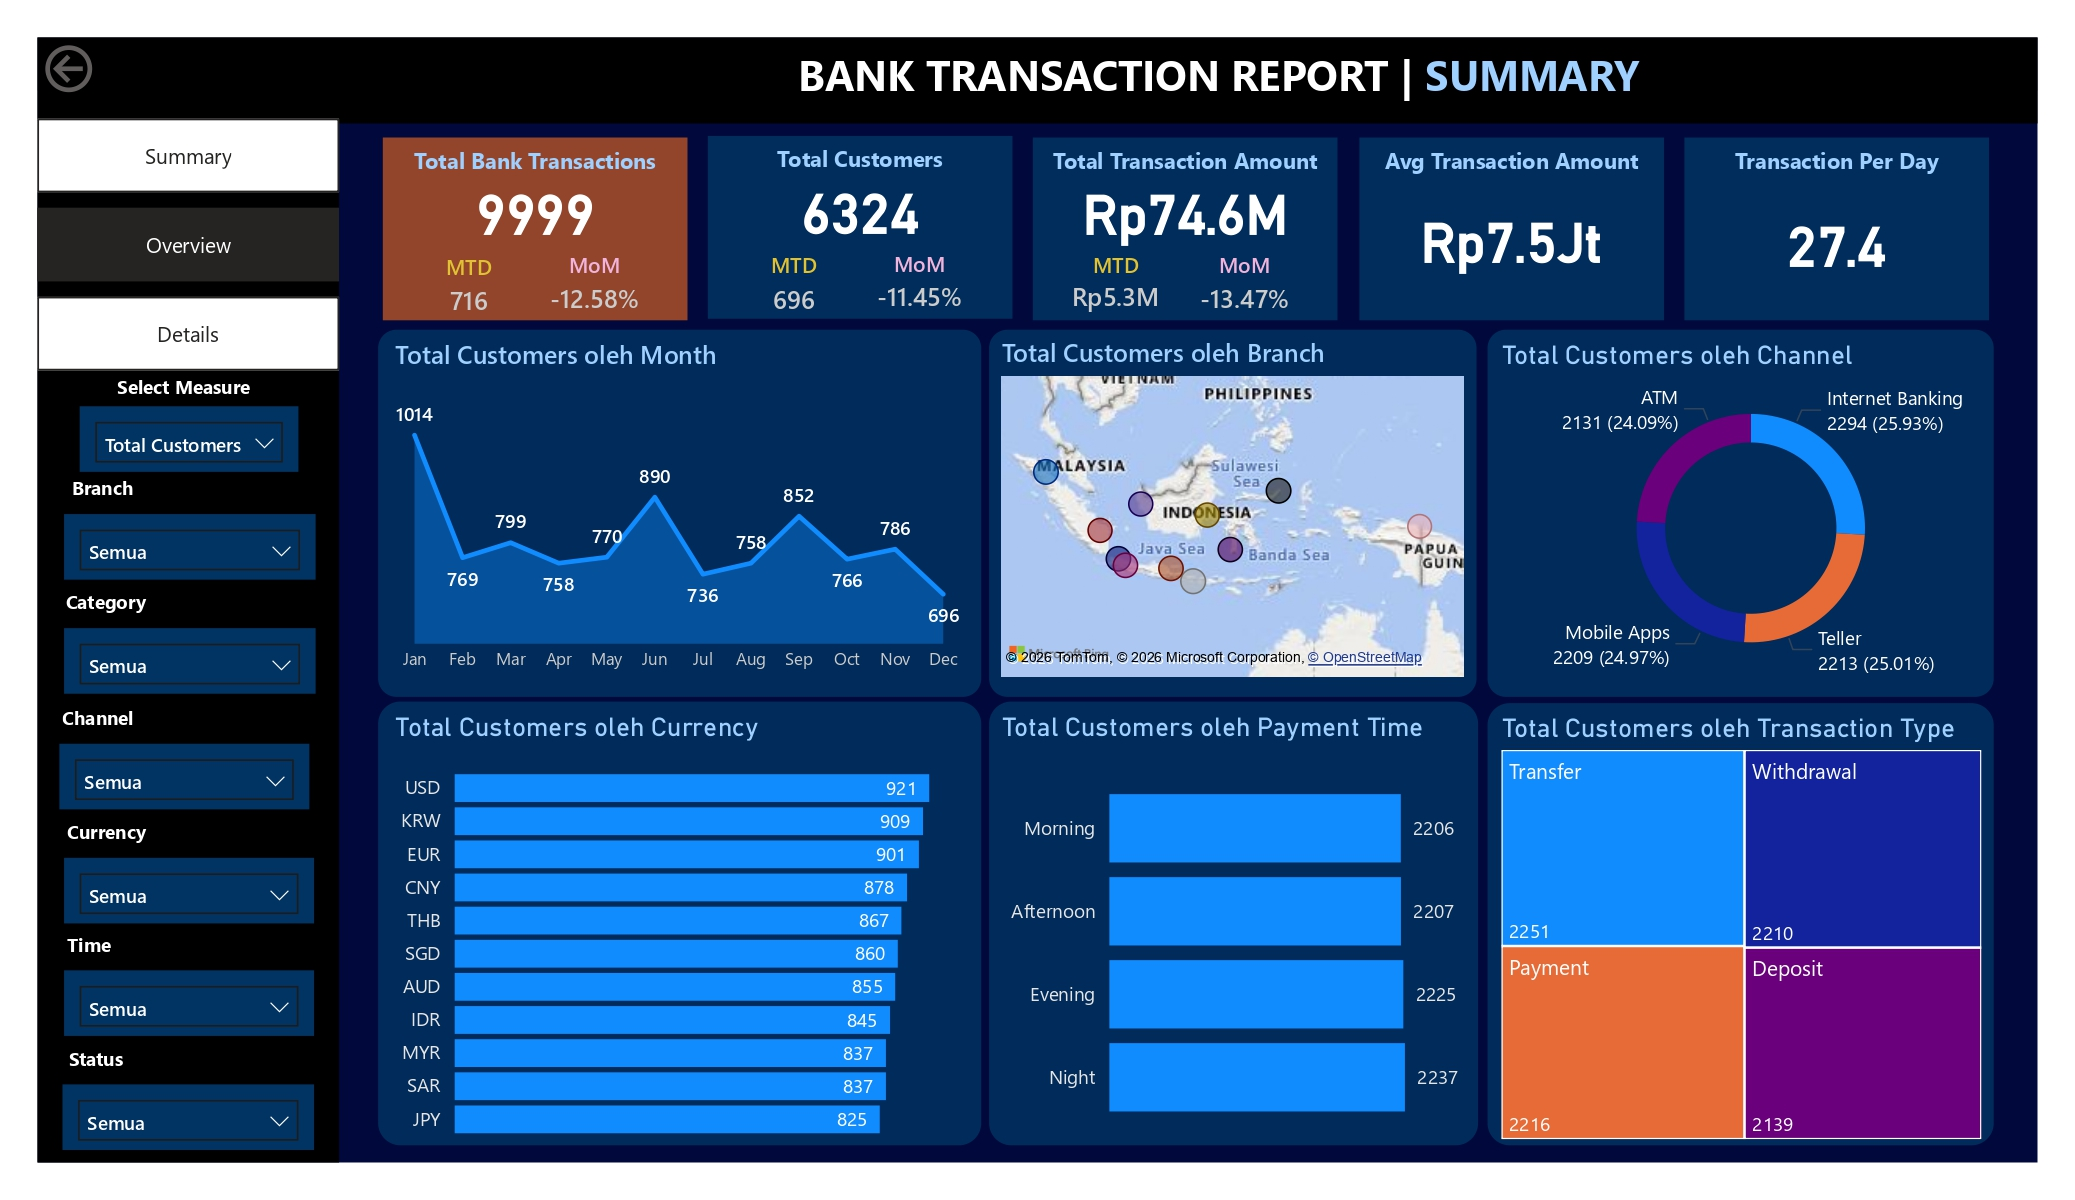

The page's visual inventory and layout, read from the dashboard file:
{"tool":"powerbi","page":{"name":"Summary","canvas":[1280,720],"ordinal":0},"visuals":[{"type":"shape","box":[0,54.8,192,665.5],"z":0},{"type":"shape","box":[428.9,63.3,195.1,117.3],"z":0,"group":"g5"},{"type":"shape","box":[220.6,63.7,195.1,117.3],"z":0,"group":"g4"},{"type":"shape","box":[637.3,63.7,195.1,117.3],"z":0,"group":"g6"},{"type":"shape","box":[845.7,63.7,195.1,117.3],"z":0,"group":"g7"},{"type":"shape","box":[1054.1,63.7,195.1,117.3],"z":0,"group":"g8"},{"type":"textbox","box":[223.1,202.3,328.9,39.5],"z":0,"group":"g9"},{"type":"textbox","box":[570.5,202.3,328.9,39.5],"z":0,"group":"g10"},{"type":"textbox","box":[917.9,202.3,328.9,39.5],"z":0,"group":"g11"},{"type":"card","fields":{"Values":["bank.UniqueCustomers"]},"box":[428.9,82.4,195.1,54.8],"z":1000,"group":"g5"},{"type":"card","fields":{"Values":["bank.TotalTransaction"]},"box":[220.6,82.8,195.1,54.8],"z":1000,"group":"g4"},{"type":"card","fields":{"Values":["bank.TotalAmount"]},"box":[637.3,82.8,195.1,54.8],"z":1000,"group":"g6"},{"type":"card","fields":{"Values":["bank.AverageTransactionValue"]},"box":[845.7,100.7,195.1,54.8],"z":1000,"group":"g7"},{"type":"card","fields":{"Values":["bank.TransactionPerDay"]},"box":[1054.1,103.2,195.1,54.8],"z":1000,"group":"g8"},{"type":"group","id":"g1","title":"Group 2","box":[219.3,257.1,167,168.3],"z":1000,"group":"g9"},{"type":"group","id":"g2","title":"Group 2","box":[566.7,257.1,167,168.3],"z":1000,"group":"g10"},{"type":"group","id":"g3","title":"Group 2","box":[914.1,257.1,167,168.3],"z":1000,"group":"g11"},{"type":"shape","box":[216.7,470.4,1033.9,239.7],"z":1000},{"type":"textbox","box":[428.9,63.3,195.1,39.5],"z":2000,"group":"g5"},{"type":"textbox","box":[220.6,63.7,195.1,39.5],"z":2000,"group":"g4"},{"type":"textbox","box":[637.3,63.7,195.1,39.5],"z":2000,"group":"g6"},{"type":"textbox","box":[845.7,63.7,195.1,39.5],"z":2000,"group":"g7"},{"type":"textbox","box":[1054.1,63.7,195.1,39.5],"z":2000,"group":"g8"},{"type":"shape","box":[564.1,195.1,340,260.1],"z":2000},{"type":"cardVisual","fields":{"Data":["bank.TotalSuccessTransaction","bank.TotalSuccessCustomers","bank.TotalSuccessAmount"]},"box":[369.7,230.3,183.6,218],"z":2000,"group":"g9"},{"type":"cardVisual","fields":{"Data":["bank.TotalPendingTransaction","bank.TotalPendingCustomers","bank.TotalPendingAmount"]},"box":[717.1,230.3,183.6,218],"z":2000,"group":"g10"},{"type":"cardVisual","fields":{"Data":["bank.TotalFailedTransaction","bank.TotalFailedCustomers","bank.TotalFailedAmount"]},"box":[1064.5,230.3,183.6,218],"z":2000,"group":"g11"},{"type":"card","title":"MTD","fields":{"Values":["bank.MTDCustomer"]},"box":[450.6,137.2,66.3,48.4],"z":3000,"group":"g5"},{"type":"card","title":"MTD","fields":{"Values":["bank.MTDAmount"]},"box":[654.2,137.2,72.3,42.2],"z":3000,"group":"g6"},{"type":"card","title":"MTD","fields":{"Values":["bank.MTDBankTransactions"]},"box":[242.3,137.6,66.3,48.4],"z":3000,"group":"g4"},{"type":"shape","box":[218,195.1,340,260.1],"z":3000},{"type":"textbox","box":[16.6,274.1,56.1,39.5],"z":3000,"group":"g12"},{"type":"shape","box":[0,0,1280,55],"z":4000},{"type":"card","title":"MoM","fields":{"Values":["bank.MoMCustomer"]},"box":[526.5,136.8,75.9,47],"z":4000,"group":"g5"},{"type":"card","title":"MoM","fields":{"Values":["bank.MoMBankTransactions"]},"box":[318.2,137.2,75.9,47],"z":4000,"group":"g4"},{"type":"card","title":"MoM","fields":{"Values":["bank.MoMAmount"]},"box":[734.9,137.2,75.9,47],"z":4000,"group":"g6"},{"type":"textbox","box":[637.1,475.5,195.1,39.5],"z":5000},{"type":"textbox","box":[481.9,0,557.1,56.1],"z":6000},{"type":"group","id":"g4","title":"Group 1","box":[220.6,63.7,195.1,122.4],"z":7000},{"type":"group","id":"g5","title":"Group 1","box":[428.9,63.3,195.1,122.4],"z":8000},{"type":"group","id":"g6","title":"Group 1","box":[637.3,63.7,195.1,120.5],"z":9000},{"type":"group","id":"g7","title":"Group 1","box":[845.7,63.7,195.1,117.3],"z":10000},{"type":"group","id":"g8","title":"Group 1","box":[1054.1,63.7,195.1,117.3],"z":11000},{"type":"actionButton","box":[0,0,100,40],"z":12000},{"type":"shape","box":[910.3,195.1,340.4,260.1],"z":13000},{"type":"donutChart","fields":{"Category":["bank.Transaction Status"],"Y":["bank.TotalTransaction"]},"box":[219.3,257.1,167,168.3],"z":13000,"group":"g1"},{"type":"donutChart","fields":{"Category":["bank.Transaction Status"],"Y":["bank.TotalTransaction"]},"box":[566.7,257.1,167,168.3],"z":13000,"group":"g2"},{"type":"donutChart","fields":{"Category":["bank.Transaction Status"],"Y":["bank.TotalTransaction"]},"box":[914.1,257.1,167,168.3],"z":13000,"group":"g3"},{"type":"card","fields":{"Values":["bank.SucessTransPerc"]},"box":[242.2,309.4,121.1,63.7],"z":13500,"group":"g1"},{"type":"card","fields":{"Values":["bank.PendingTransPerc"]},"box":[589.6,309.4,121.1,63.7],"z":13500,"group":"g2"},{"type":"card","fields":{"Values":["bank.FailedTransPerc"]},"box":[937,309.4,121.1,63.7],"z":13500,"group":"g3"},{"type":"group","id":"g9","title":"Group 3","box":[219.3,202.3,334,246.1],"z":14000},{"type":"group","id":"g10","title":"Group 3","box":[566.7,202.3,334,246.1],"z":15000},{"type":"group","id":"g11","title":"Group 3","box":[914.1,202.3,334,246.1],"z":16000},{"type":"tableEx","fields":{"Values":["bank.Status","bank.TotalTransaction","bank.UniqueCustomers","bank.MTDCustomer","bank.TotalAmount","bank.MTDAmount","bank.AverageTransactionValue","bank.TransactionPerDay"]},"box":[223.4,517.6,1022.5,198.9],"z":17000},{"type":"group","id":"g12","title":"Group 4","box":[16.6,274.1,160.6,72.7],"z":18000},{"type":"slicer","fields":{"Values":["bank.Branch"]},"box":[16.6,304.7,160.6,42.1],"z":19000,"group":"g12"},{"type":"group","id":"g13","title":"Group 5","box":[12.7,346.8,164.5,73.9],"z":19000},{"type":"textbox","box":[12.7,346.8,72.7,39.5],"z":20000,"group":"g13"},{"type":"group","id":"g14","title":"Group 5","box":[11.5,420.7,163.2,72.9],"z":20000},{"type":"textbox","box":[11.5,420.7,70.1,39.5],"z":20000,"group":"g14"},{"type":"textbox","box":[14,493.5,70.1,39.5],"z":20000,"group":"g15"},{"type":"textbox","box":[14,566.1,70.1,39.5],"z":20000,"group":"g16"},{"type":"textbox","box":[14.9,638.7,70.1,39.5],"z":20000,"group":"g17"},{"type":"slicer","fields":{"Values":["bank.MerchantCategory"]},"box":[16.9,377.7,160.6,42.1],"z":21000,"group":"g13"},{"type":"slicer","fields":{"Values":["bank.Channel"]},"box":[14.1,451.6,160.6,42.1],"z":21000,"group":"g14"},{"type":"group","id":"g15","title":"Group 5","box":[14,493.5,163.2,72.7],"z":21000},{"type":"slicer","fields":{"Values":["bank.Currency"]},"box":[16.6,524.4,160.6,42.1],"z":21000,"group":"g15"},{"type":"slicer","fields":{"Values":["bank.TimeOfDay"]},"box":[16.6,597,160.6,42.1],"z":21000,"group":"g16"},{"type":"slicer","fields":{"Values":["bank.TransactionType"]},"box":[16.1,669.7,160.6,42.1],"z":21000,"group":"g17"},{"type":"group","id":"g16","title":"Group 5","box":[14,566.1,163.2,72.7],"z":22000},{"type":"group","id":"g17","title":"Group 5","box":[14.9,638.7,161.9,72.7],"z":23000},{"type":"pageNavigator","box":[0,52.3,192.5,161.9],"z":24000}]}

Visuals, with their boxes on the page's 1280x720 design canvas (x1, y1, x2, y2). These are canvas units, not pixel positions in the 2075x1200 screenshot, which may show the page scaled, cropped or inside an application window:
shape: crop(0, 55, 192, 720)
shape: crop(429, 63, 624, 181)
shape: crop(221, 64, 416, 181)
shape: crop(637, 64, 832, 181)
shape: crop(846, 64, 1041, 181)
shape: crop(1054, 64, 1249, 181)
textbox: crop(223, 202, 552, 242)
textbox: crop(570, 202, 899, 242)
textbox: crop(918, 202, 1247, 242)
card - bank.UniqueCustomers: crop(429, 82, 624, 137)
card - bank.TotalTransaction: crop(221, 83, 416, 138)
card - bank.TotalAmount: crop(637, 83, 832, 138)
card - bank.AverageTransactionValue: crop(846, 101, 1041, 156)
card - bank.TransactionPerDay: crop(1054, 103, 1249, 158)
"Group 2" group: crop(219, 257, 386, 425)
"Group 2" group: crop(567, 257, 734, 425)
"Group 2" group: crop(914, 257, 1081, 425)
shape: crop(217, 470, 1251, 710)
textbox: crop(429, 63, 624, 103)
textbox: crop(221, 64, 416, 103)
textbox: crop(637, 64, 832, 103)
textbox: crop(846, 64, 1041, 103)
textbox: crop(1054, 64, 1249, 103)
shape: crop(564, 195, 904, 455)
cardVisual - bank.TotalSuccessTransaction x bank.TotalSuccessCustomers: crop(370, 230, 553, 448)
cardVisual - bank.TotalPendingTransaction x bank.TotalPendingCustomers: crop(717, 230, 901, 448)
cardVisual - bank.TotalFailedTransaction x bank.TotalFailedCustomers: crop(1064, 230, 1248, 448)
"MTD" card: crop(451, 137, 517, 186)
"MTD" card: crop(654, 137, 726, 179)
"MTD" card: crop(242, 138, 309, 186)
shape: crop(218, 195, 558, 455)
textbox: crop(17, 274, 73, 314)
shape: crop(0, 0, 1280, 55)
"MoM" card: crop(526, 137, 602, 184)
"MoM" card: crop(318, 137, 394, 184)
"MoM" card: crop(735, 137, 811, 184)
textbox: crop(637, 476, 832, 515)
textbox: crop(482, 0, 1039, 56)
"Group 1" group: crop(221, 64, 416, 186)
"Group 1" group: crop(429, 63, 624, 186)
"Group 1" group: crop(637, 64, 832, 184)
"Group 1" group: crop(846, 64, 1041, 181)
"Group 1" group: crop(1054, 64, 1249, 181)
actionButton: crop(0, 0, 100, 40)
shape: crop(910, 195, 1251, 455)
donutChart - bank.Transaction Status x bank.TotalTransaction: crop(219, 257, 386, 425)
donutChart - bank.Transaction Status x bank.TotalTransaction: crop(567, 257, 734, 425)
donutChart - bank.Transaction Status x bank.TotalTransaction: crop(914, 257, 1081, 425)
card - bank.SucessTransPerc: crop(242, 309, 363, 373)
card - bank.PendingTransPerc: crop(590, 309, 711, 373)
card - bank.FailedTransPerc: crop(937, 309, 1058, 373)
"Group 3" group: crop(219, 202, 553, 448)
"Group 3" group: crop(567, 202, 901, 448)
"Group 3" group: crop(914, 202, 1248, 448)
tableEx - bank.Status x bank.TotalTransaction: crop(223, 518, 1246, 716)
"Group 4" group: crop(17, 274, 177, 347)
slicer - bank.Branch: crop(17, 305, 177, 347)
"Group 5" group: crop(13, 347, 177, 421)
textbox: crop(13, 347, 85, 386)
"Group 5" group: crop(12, 421, 175, 494)
textbox: crop(12, 421, 82, 460)
textbox: crop(14, 494, 84, 533)
textbox: crop(14, 566, 84, 606)
textbox: crop(15, 639, 85, 678)
slicer - bank.MerchantCategory: crop(17, 378, 178, 420)
slicer - bank.Channel: crop(14, 452, 175, 494)
"Group 5" group: crop(14, 494, 177, 566)
slicer - bank.Currency: crop(17, 524, 177, 566)
slicer - bank.TimeOfDay: crop(17, 597, 177, 639)
slicer - bank.TransactionType: crop(16, 670, 177, 712)
"Group 5" group: crop(14, 566, 177, 639)
"Group 5" group: crop(15, 639, 177, 711)
pageNavigator: crop(0, 52, 192, 214)
